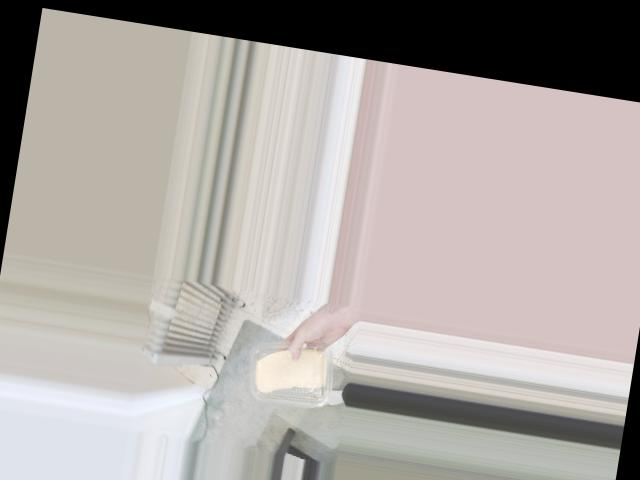cheese: (241, 333, 337, 409)
